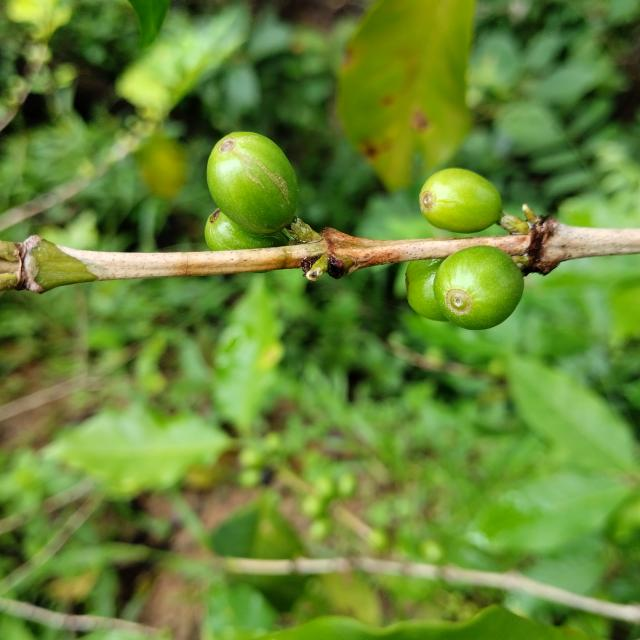green: (207, 131, 298, 234), (434, 245, 525, 330), (420, 168, 502, 233), (204, 208, 288, 251), (406, 259, 449, 322)
